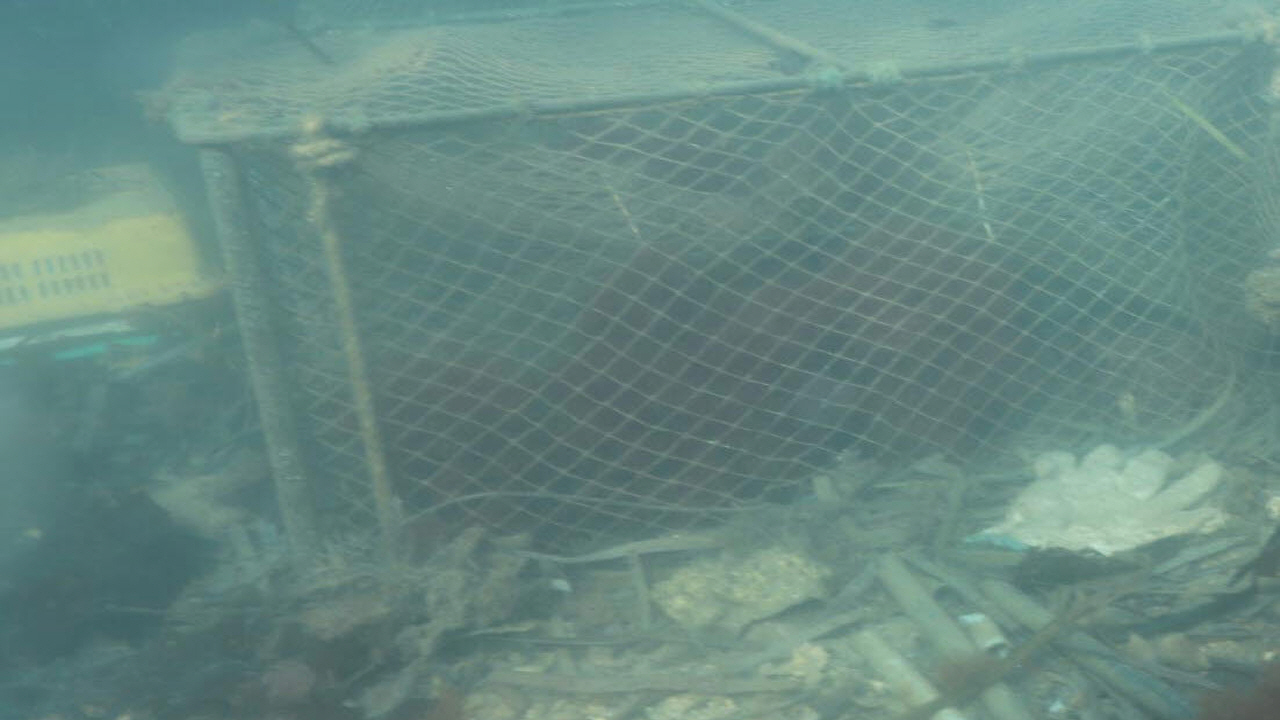rectangular fish trap: (170, 0, 1280, 595)
